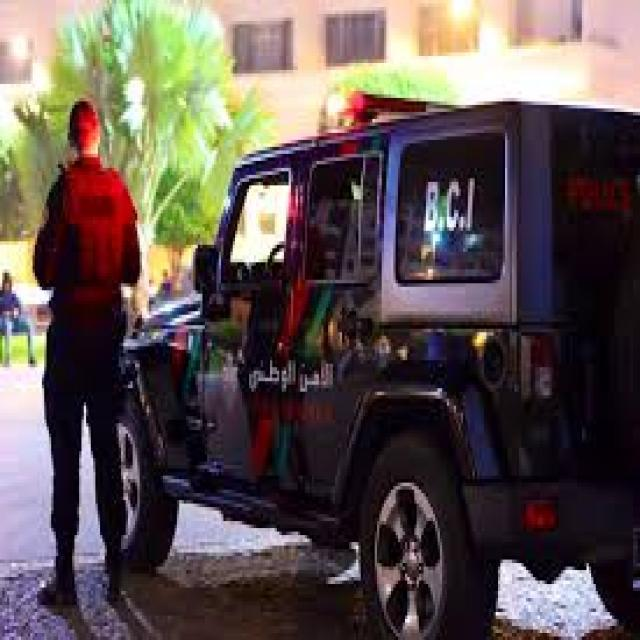police: (109, 98, 640, 640)
